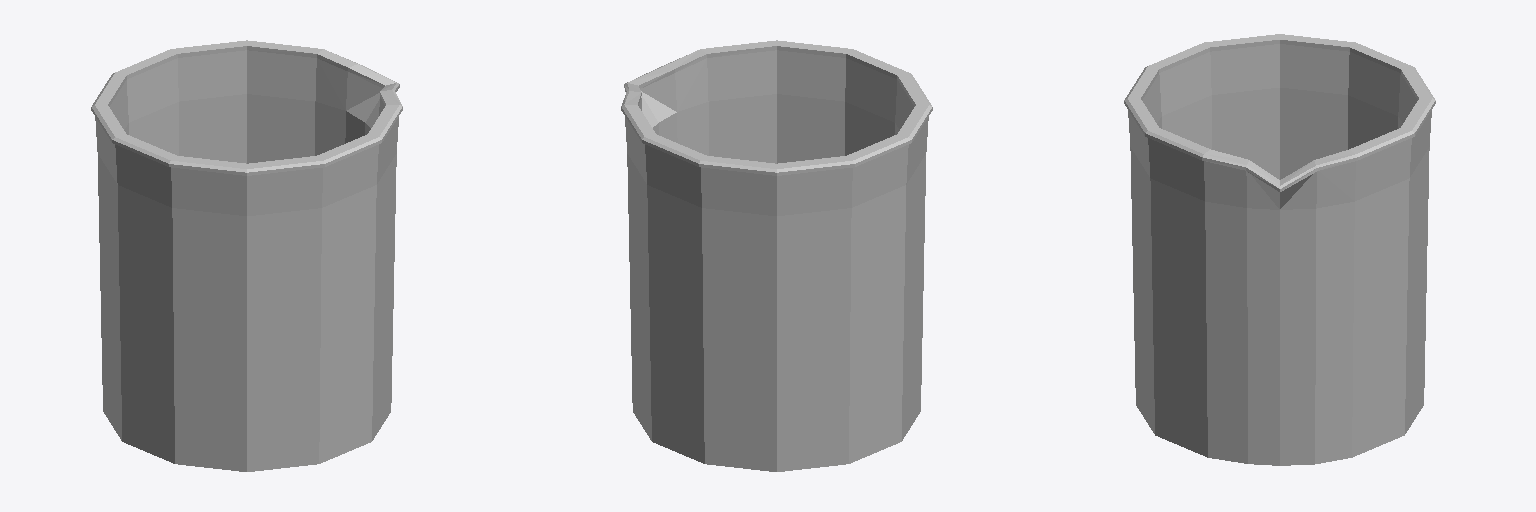
Rendered from Beaker.obj.
The picture shows the model from 3 angles: view 1: azimuth 30°, elevation 25°; view 2: azimuth 150°, elevation 25°; view 3: azimuth 270°, elevation 25°; orthographic projection.
Visible parts, largest first — view 1: Beaker; view 2: Beaker; view 3: Beaker.
Part boxes in pixels (bbox=[...]): Beaker: bbox=[91, 40, 402, 471]; Beaker: bbox=[621, 40, 932, 471]; Beaker: bbox=[1124, 34, 1435, 465].
Bounding box in the file's own units: 0.8502 × 0.8657 × 0.7971.